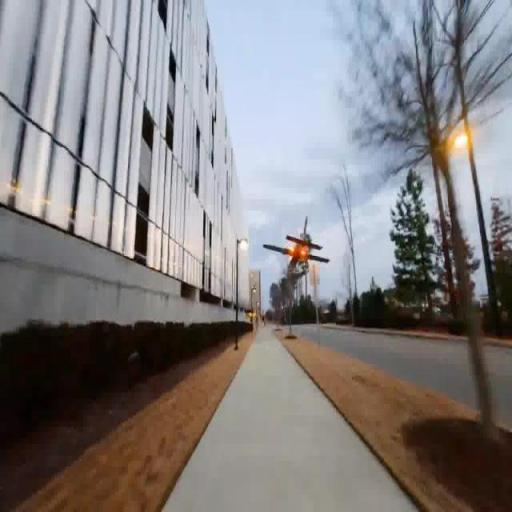uav: (260, 211, 332, 286)
